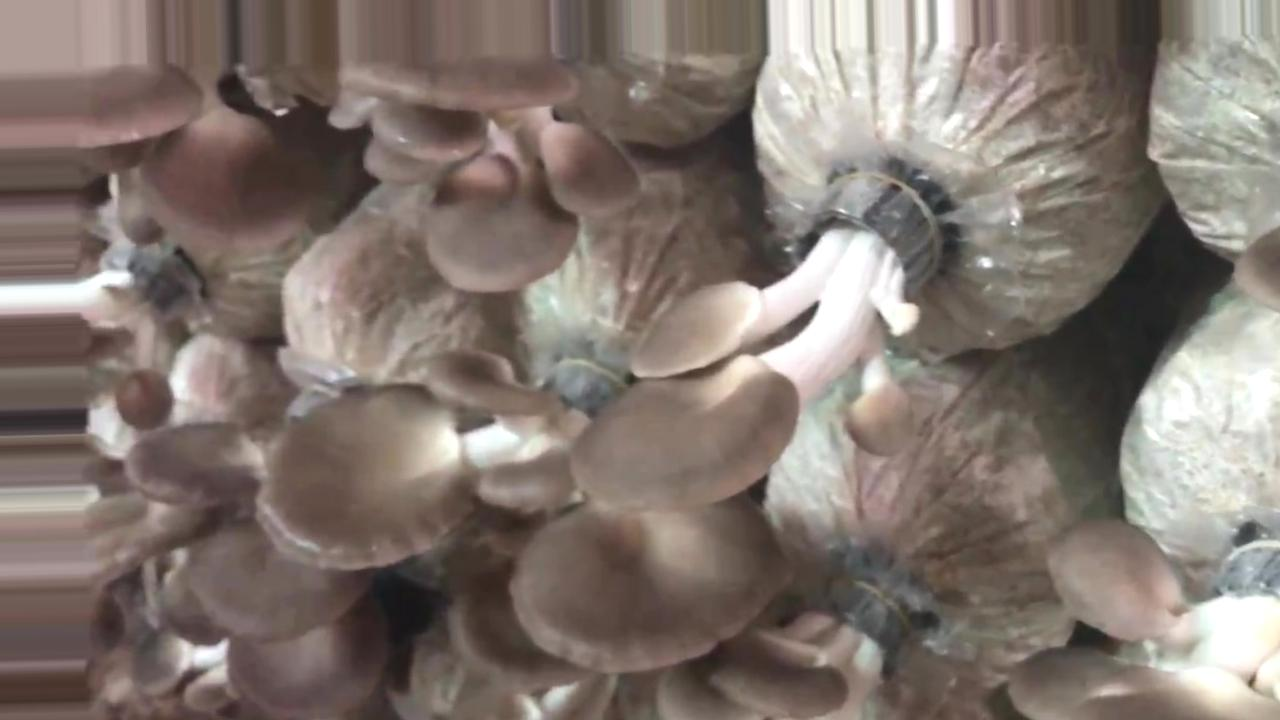nam: (259, 350, 786, 677), (568, 166, 963, 516), (331, 59, 634, 291), (1007, 520, 1280, 717), (658, 563, 952, 720)
